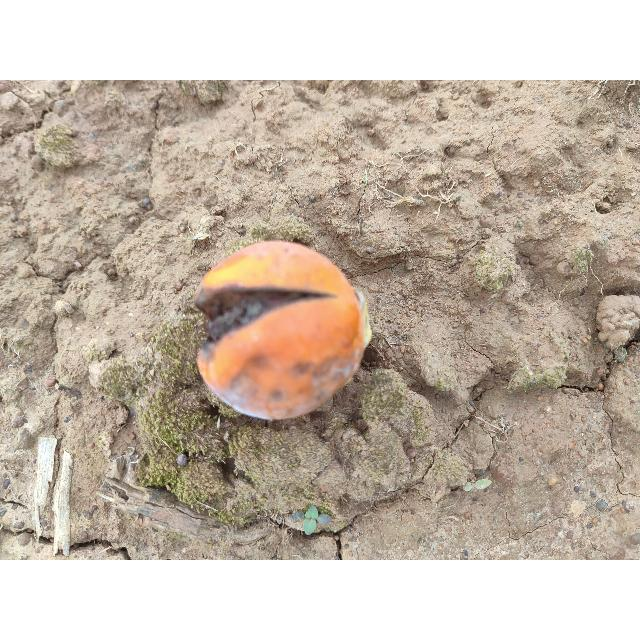damaged: (195, 241, 370, 420)
